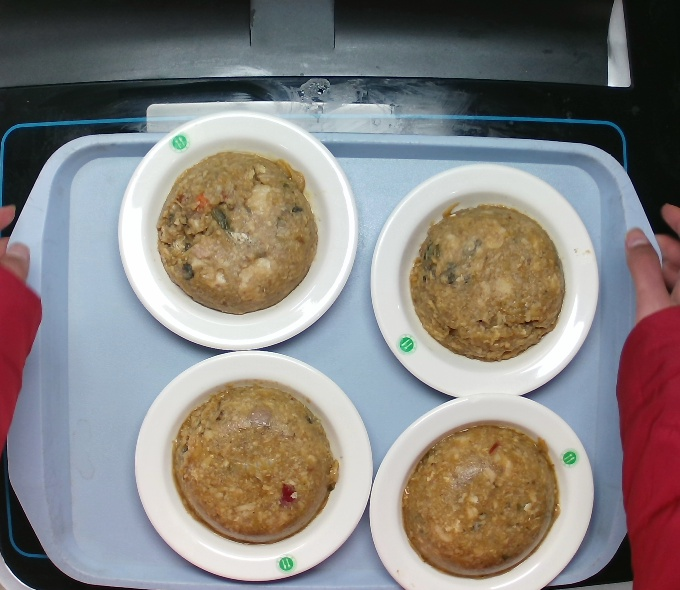wcq-YuDong: (395, 414, 563, 582), (174, 372, 334, 548), (155, 146, 320, 311), (409, 204, 561, 349)
